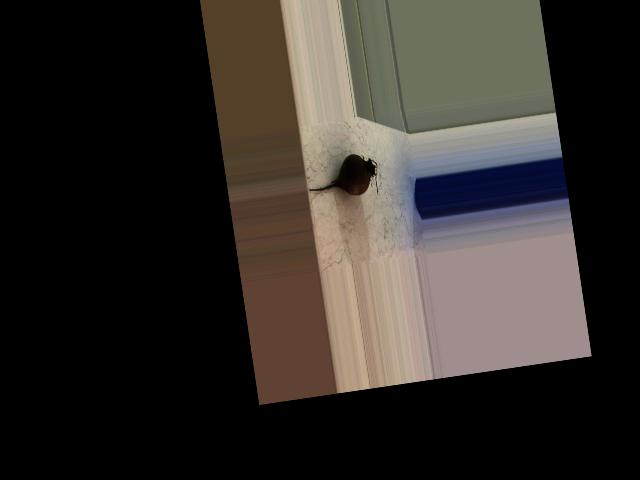beet: (304, 151, 381, 205)
